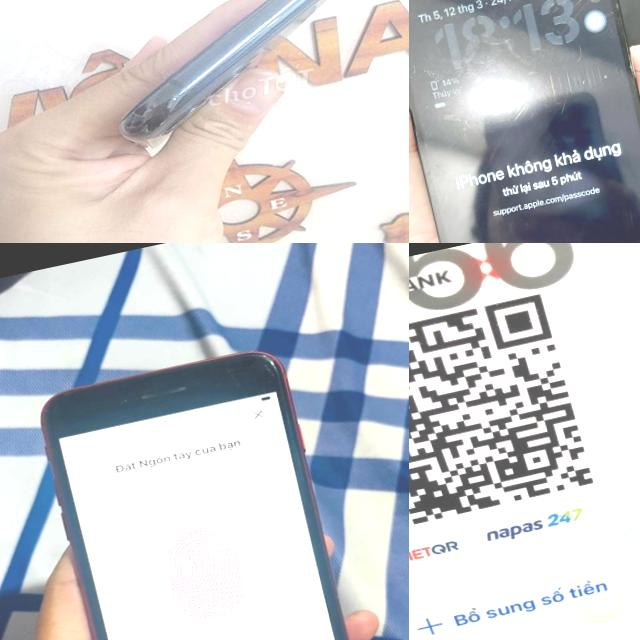physical_damage: (472, 0, 630, 51)
scratch: (458, 83, 590, 193), (409, 48, 459, 101), (244, 352, 280, 383), (409, 0, 455, 20)
